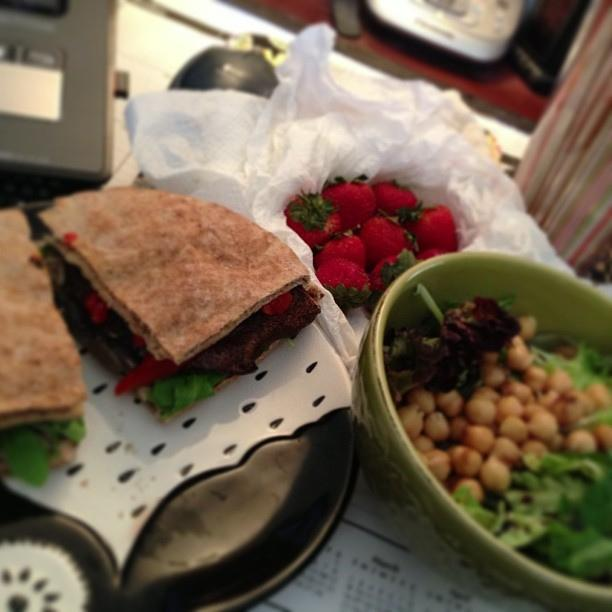lettuce: (452, 451, 612, 586), (386, 285, 520, 405), (531, 340, 611, 391), (0, 424, 50, 488), (147, 374, 215, 420)
strawberry: (284, 188, 342, 249), (320, 174, 378, 234), (316, 256, 373, 315), (396, 201, 458, 252), (360, 215, 411, 264), (369, 248, 422, 292), (313, 236, 366, 272), (372, 180, 417, 216), (415, 247, 449, 260)
